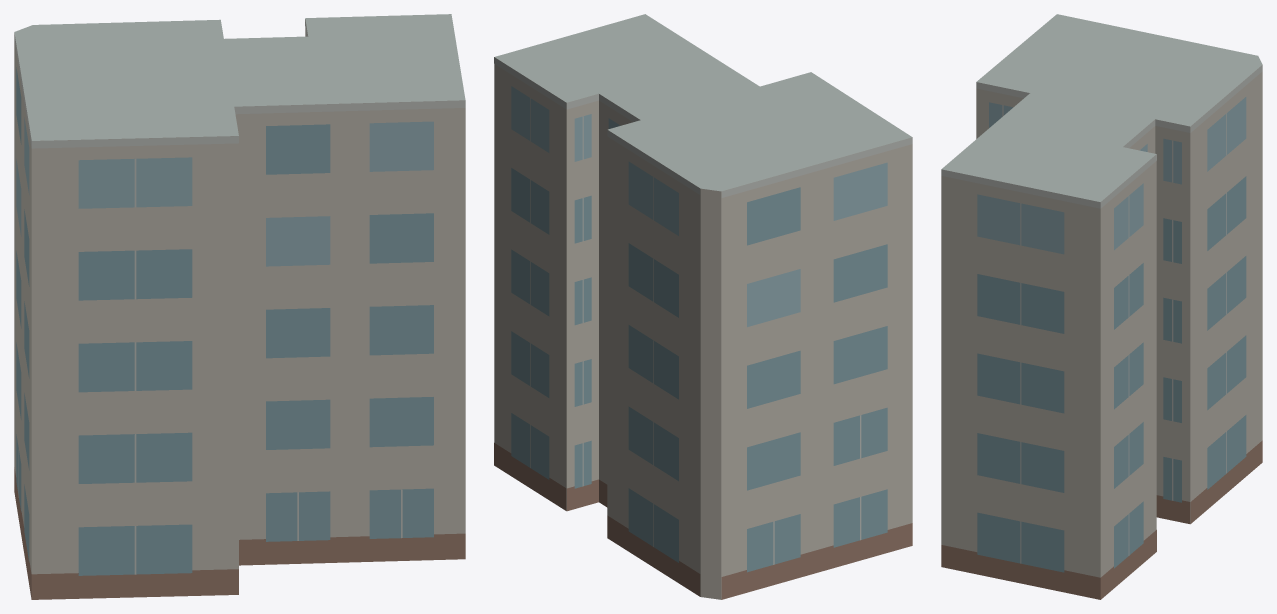
Rendered from survey-upis-33004692.glb.
3 views of the same model, side by side, from view 1: azimuth 30°, elevation 25°; view 2: azimuth 150°, elevation 25°; view 3: azimuth 270°, elevation 25° (orthographic). The views are drawn at different scales.
Visible parts, largest first — view 1: survey-upis-33004692.tmp; view 2: survey-upis-33004692.tmp; view 3: survey-upis-33004692.tmp.
Boxes of the visible parts, <box> form: survey-upis-33004692.tmp: <box>14,14,465,599</box>; survey-upis-33004692.tmp: <box>494,14,912,599</box>; survey-upis-33004692.tmp: <box>941,14,1262,599</box>.
Size of the model in its own units: 15.03 by 14.8 by 10.85.
